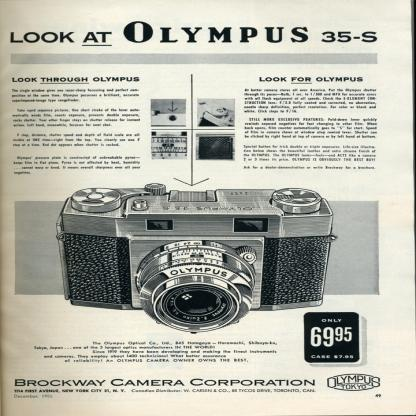Camera: (49, 179, 343, 332)
